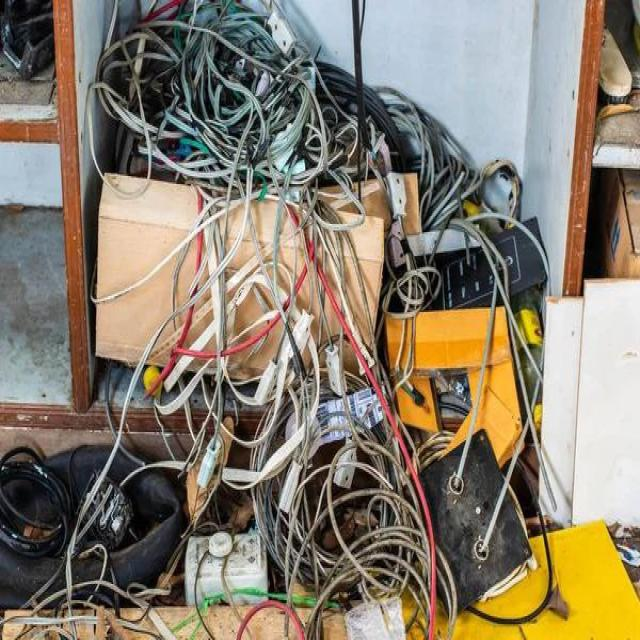Cable: (0, 4, 571, 640)
